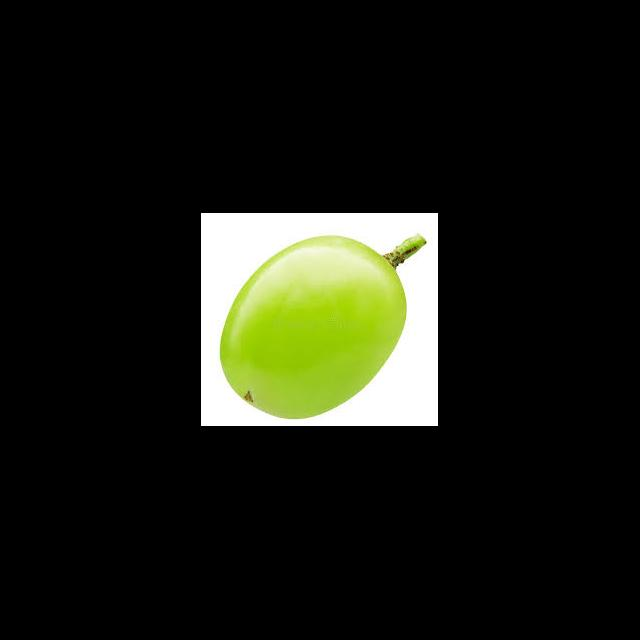grape: (219, 232, 426, 420)
